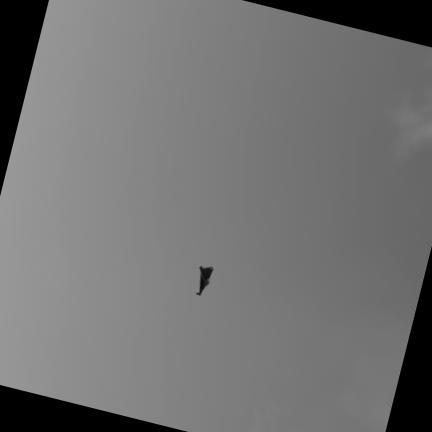Shahed: (196, 266, 211, 294)
